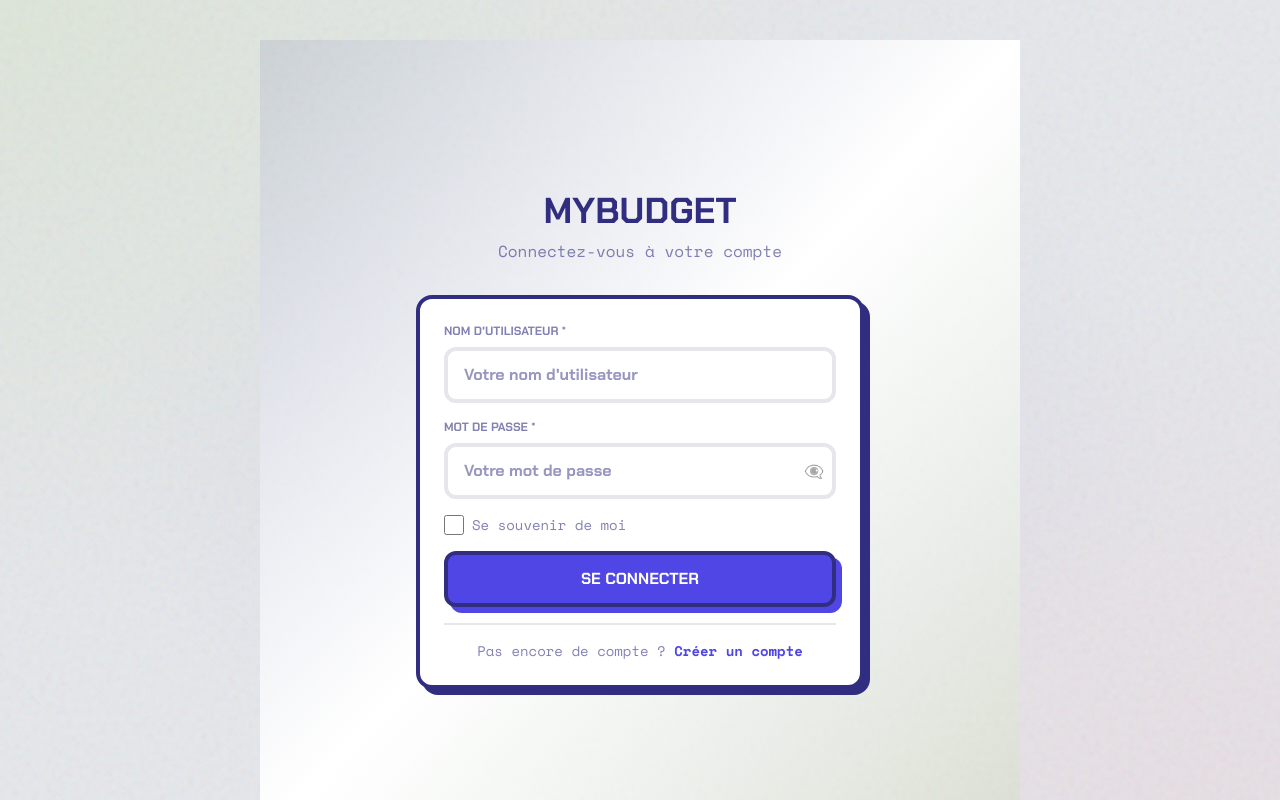
US02 - Connexion › Le champ 'Nom d'utilisateur' est requis (validation client)
The width and height of the screenshot is (1280, 800).
What coordinates should you click on to do the following:
click the button "Se connecter"
I would click on:
 (640, 579)
Its box is [444,551,836,607].
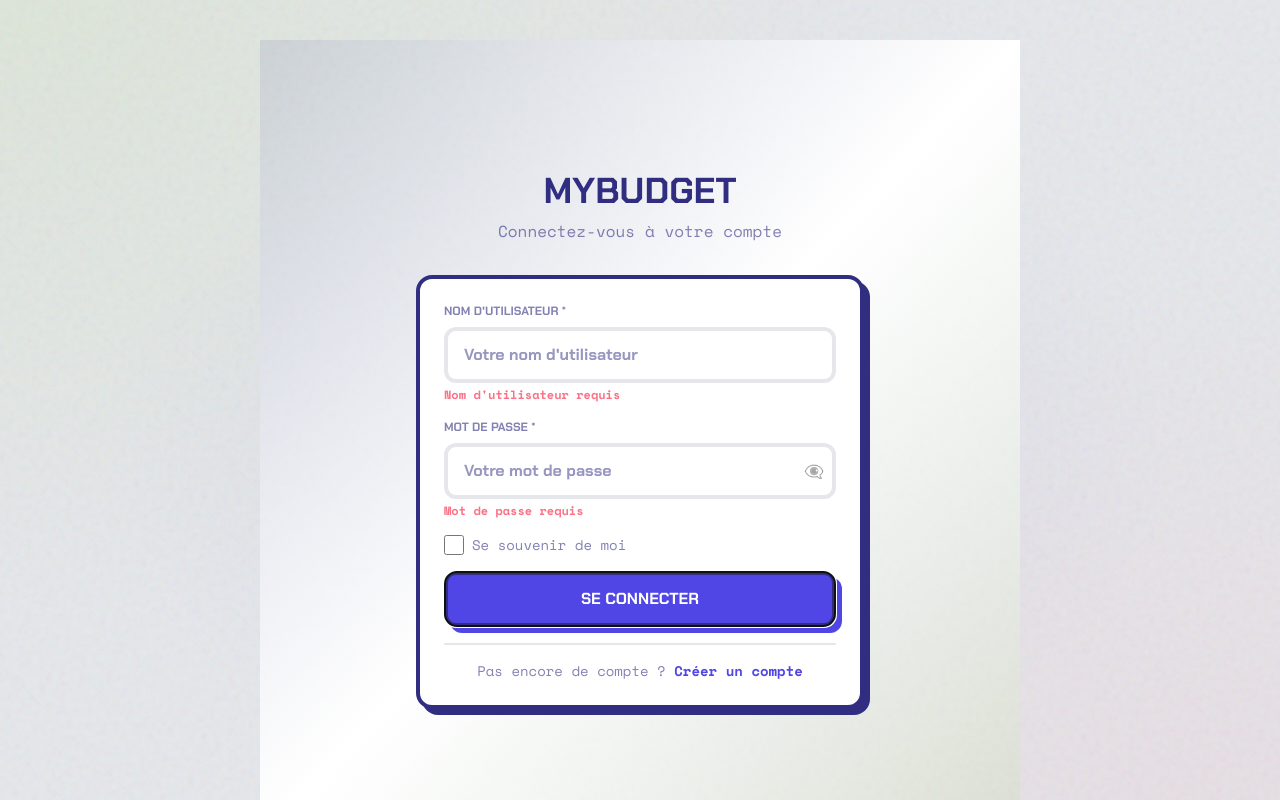
Check: the text "Nom d'utilisateur requis" is shown, box [444,386,620,403]
